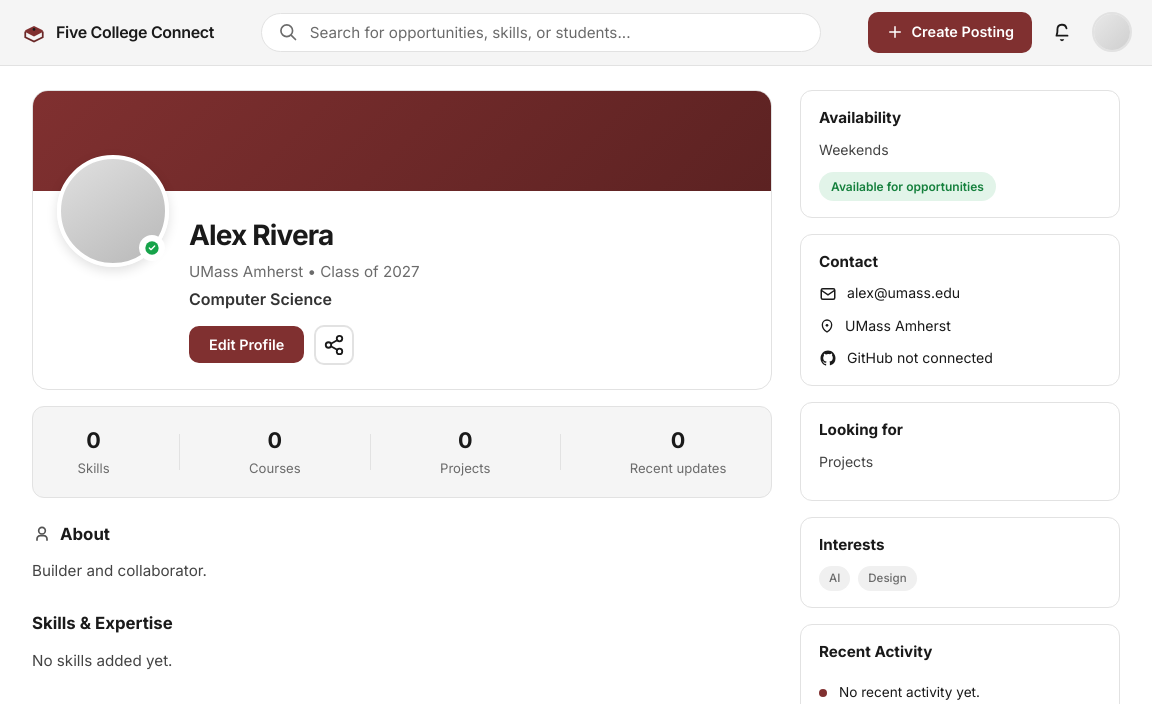
Scenario: ProfilePage › creates a featured project from the Add Project modal
This screenshot has width=1152, height=704.
expect the text "Builder and collaborator." is shown: met, box [32,560,207,580]
Click the button "Edit Profile". click: (247, 345)
box: [189,326,304,363]
(page scrolled)
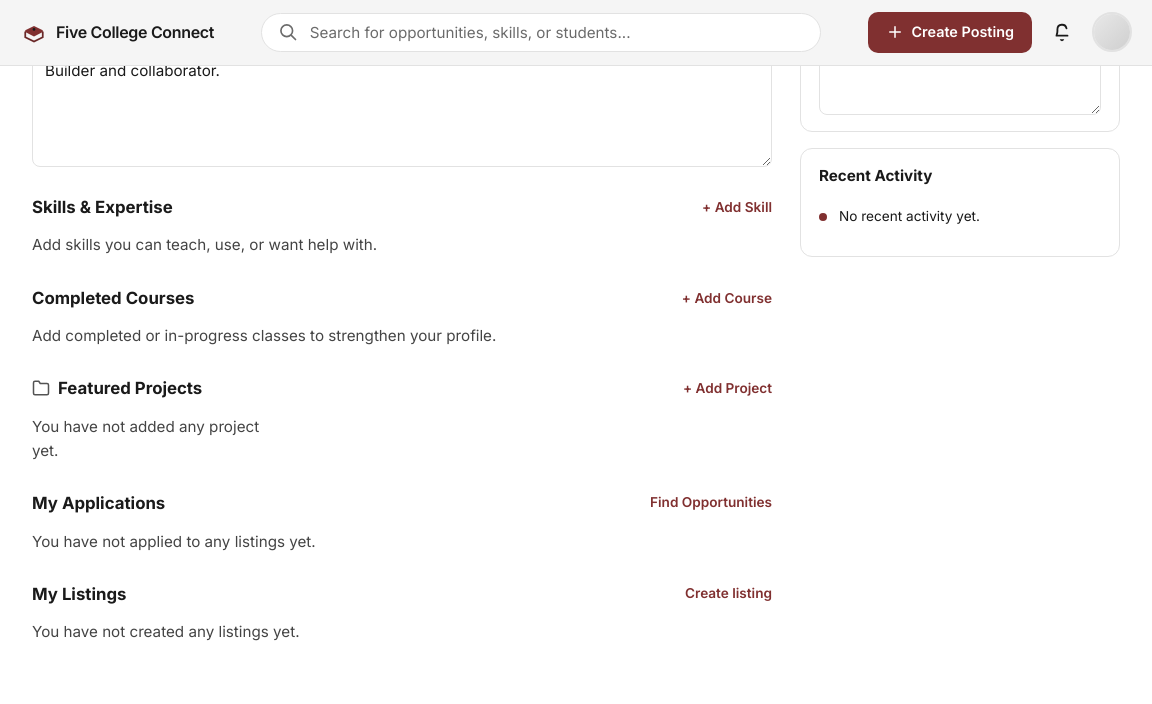
Click the button "+ Add Project". click: (727, 388)
box: [683,376,772,400]
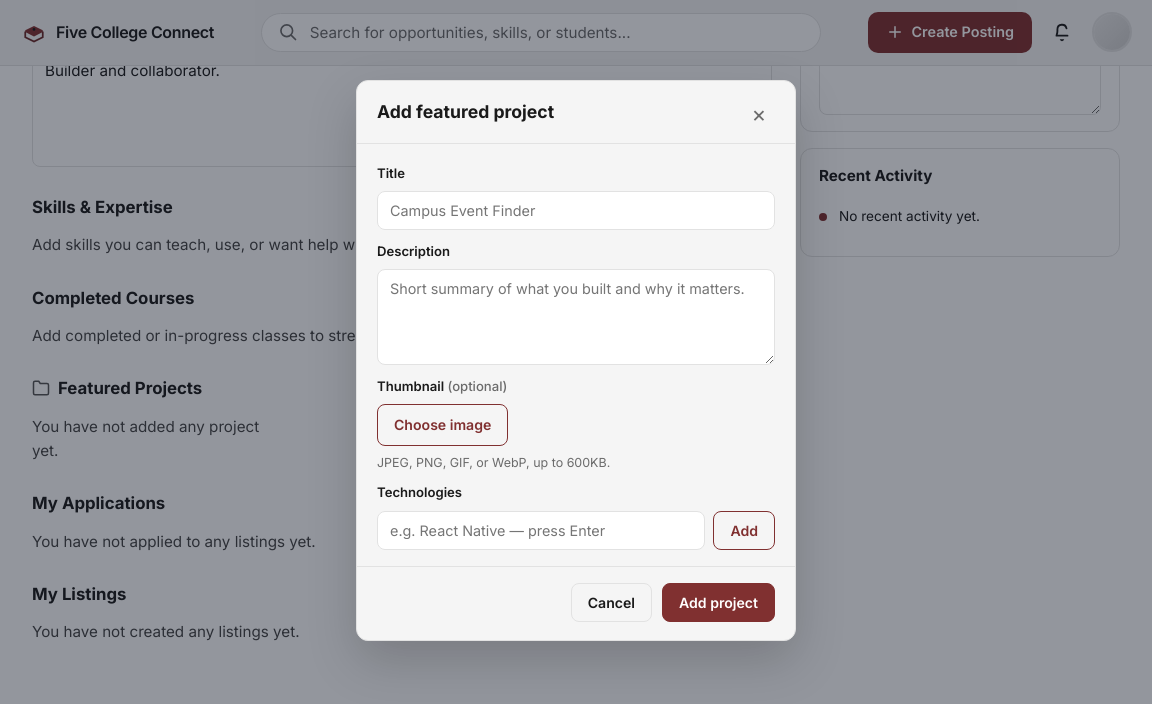
Type "Portfolio App" into the field labelled "Title". click: (576, 210)
box: [377,190,775,230]
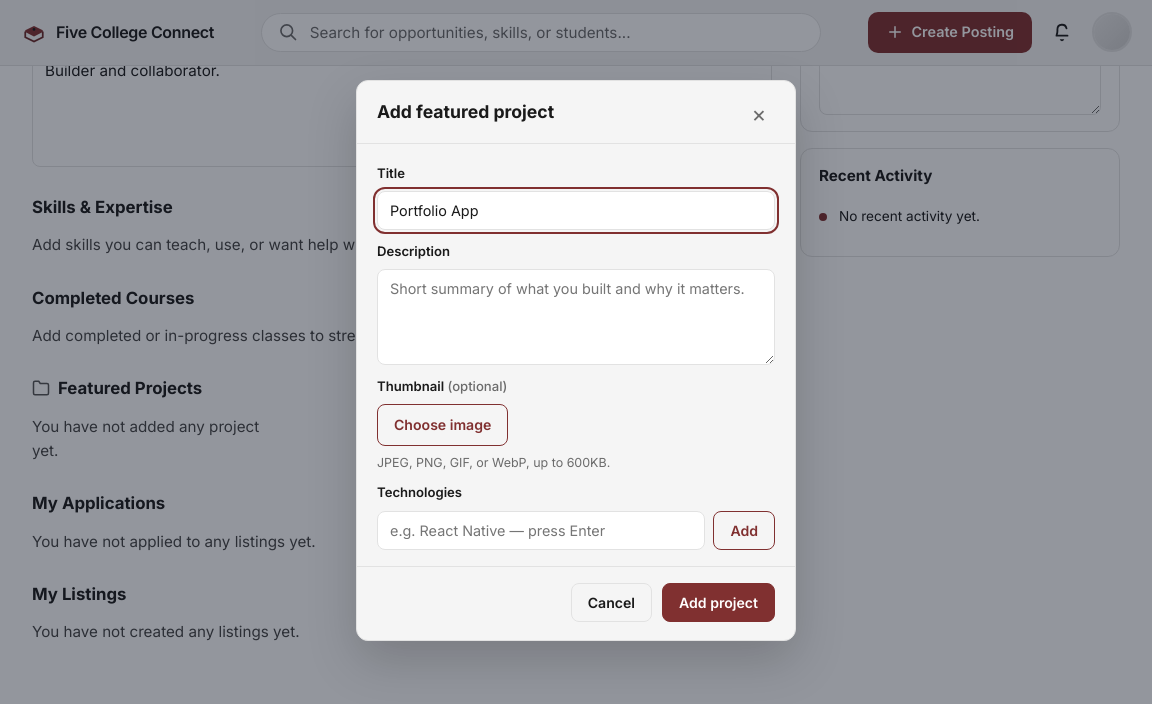
Type "A portfolio project for class." into the text box labelled "Description". click: (576, 317)
box: [377,269,775,365]
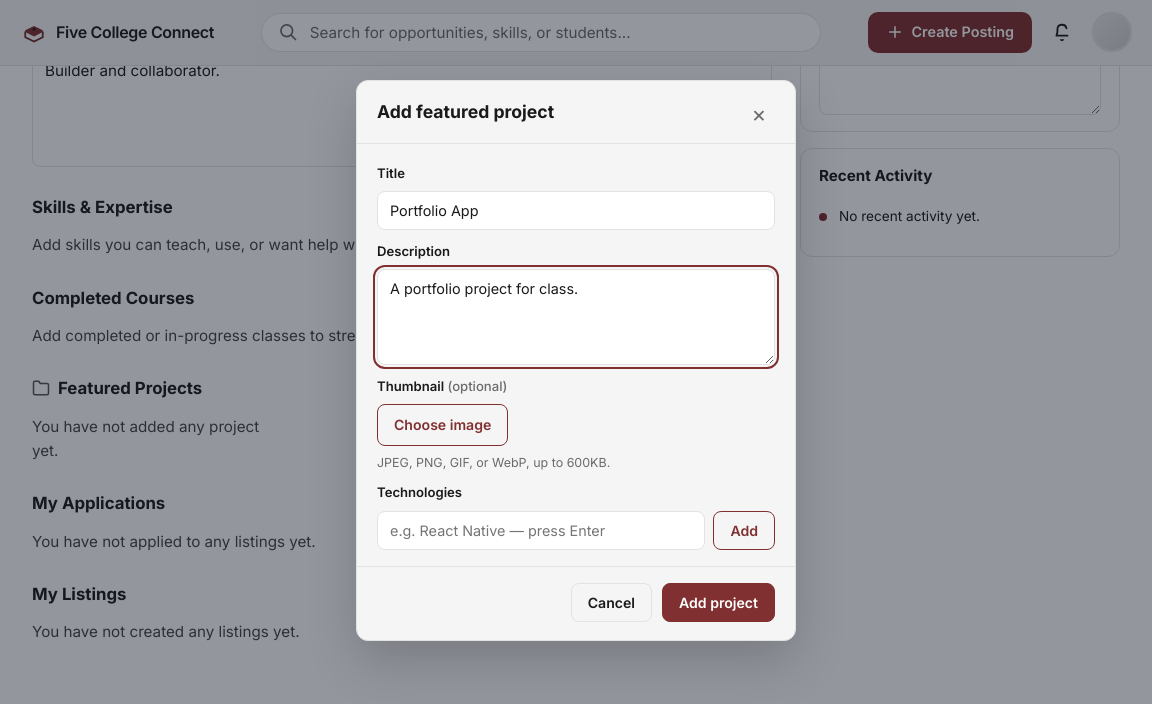
Click the button "Add project". click: (718, 602)
box: [662,582,775,622]
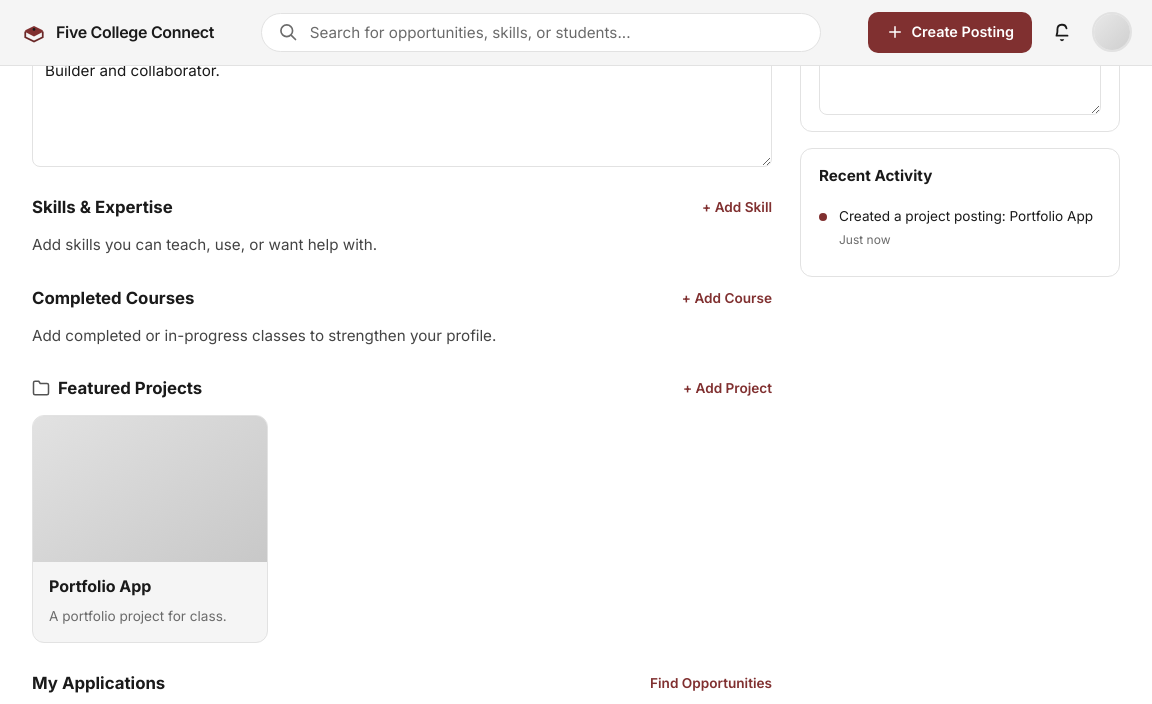
expect the heading "Portfolio App" is shown: met, box [49,576,152,596]
